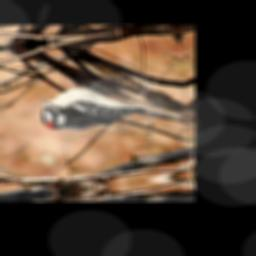Woodpecker: (38, 76, 151, 136)
